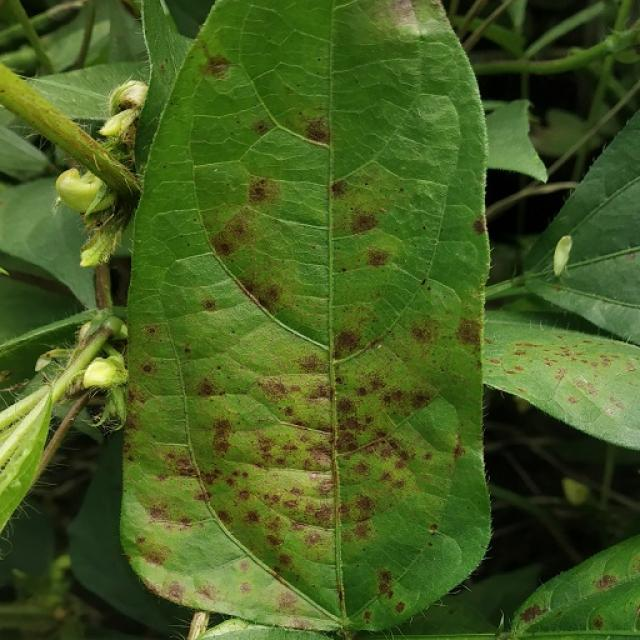Anthracnose: (205, 152, 413, 344), (325, 427, 436, 528), (326, 346, 437, 438), (221, 464, 339, 532), (209, 198, 285, 274), (220, 423, 332, 471), (341, 198, 386, 239), (219, 216, 251, 247), (209, 417, 234, 453), (251, 283, 283, 311), (247, 176, 275, 203), (304, 117, 331, 144), (202, 54, 230, 76), (140, 546, 167, 567), (519, 603, 545, 624), (376, 570, 394, 598), (626, 546, 640, 578), (195, 377, 217, 397), (277, 590, 299, 609), (574, 378, 598, 395), (594, 574, 618, 590), (166, 581, 185, 601), (250, 119, 271, 136), (330, 180, 346, 196), (472, 218, 486, 235), (609, 399, 626, 413), (216, 241, 232, 255), (590, 614, 604, 629), (201, 298, 217, 311), (239, 582, 253, 594), (394, 601, 406, 614), (141, 362, 153, 374), (623, 251, 637, 260), (363, 611, 372, 623), (567, 396, 578, 405)
Blackgram: (121, 0, 489, 630)
